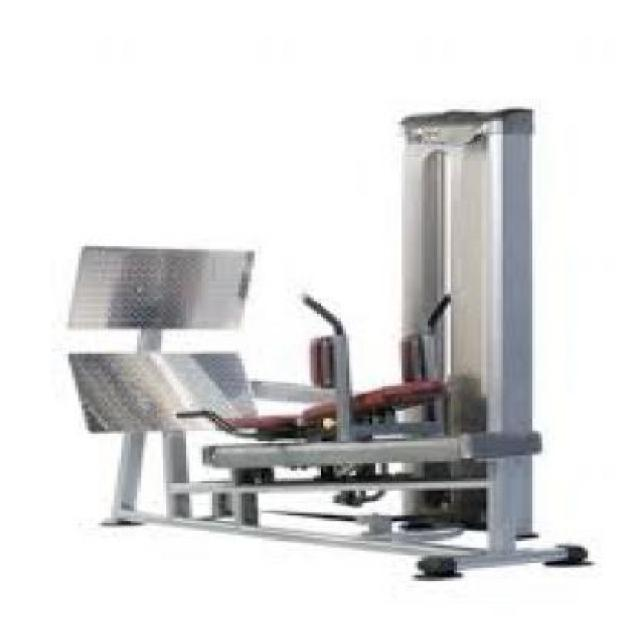leg press: (42, 94, 600, 589)
